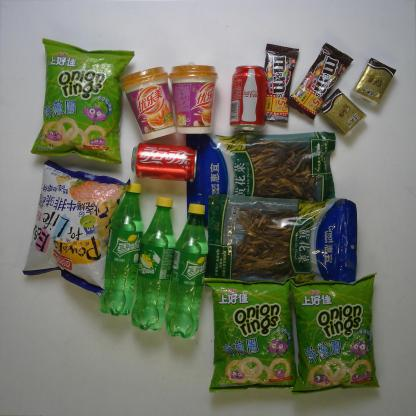Chocolate: (286, 42, 355, 120), (262, 42, 300, 126)
Dried Food: (204, 195, 360, 303), (184, 129, 338, 234)
Drink: (126, 190, 176, 332), (161, 200, 209, 342), (97, 179, 145, 318), (128, 139, 202, 184), (226, 62, 270, 134)
Instant Drink: (119, 64, 176, 143), (169, 62, 219, 137)
Puffed Food: (21, 159, 133, 296), (29, 37, 136, 166), (290, 272, 381, 394), (204, 274, 298, 392)
Tissue: (318, 89, 368, 139), (353, 56, 397, 107)
